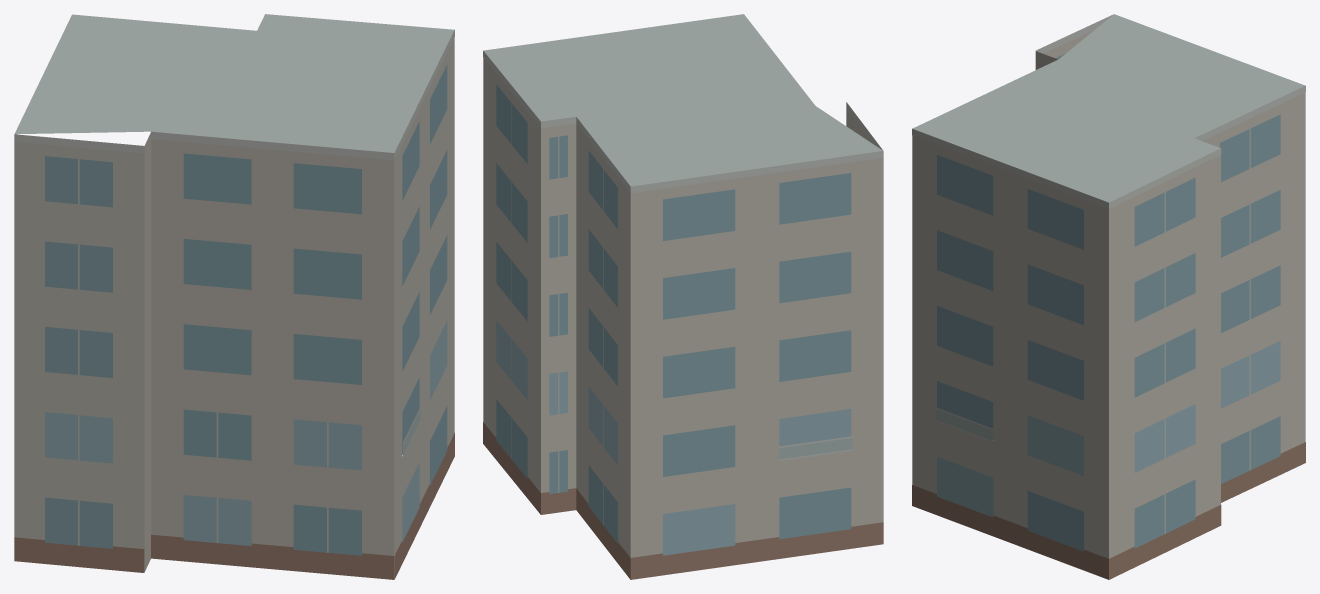
The model's file is survey-upis-32643236.glb.
3 views of the same model, side by side, from view 1: azimuth 30°, elevation 25°; view 2: azimuth 150°, elevation 25°; view 3: azimuth 270°, elevation 25° (orthographic). The views are drawn at different scales.
Parts seen in each view (by area): view 1: survey-upis-32643236.tmp; view 2: survey-upis-32643236.tmp; view 3: survey-upis-32643236.tmp.
Part boxes in pixels (x1=…): survey-upis-32643236.tmp: x1=14, y1=14, x2=454, y2=579; survey-upis-32643236.tmp: x1=483, y1=14, x2=883, y2=579; survey-upis-32643236.tmp: x1=912, y1=14, x2=1305, y2=579.
Bounding box in the file's own units: 15.13 × 14.1 × 13.34.
